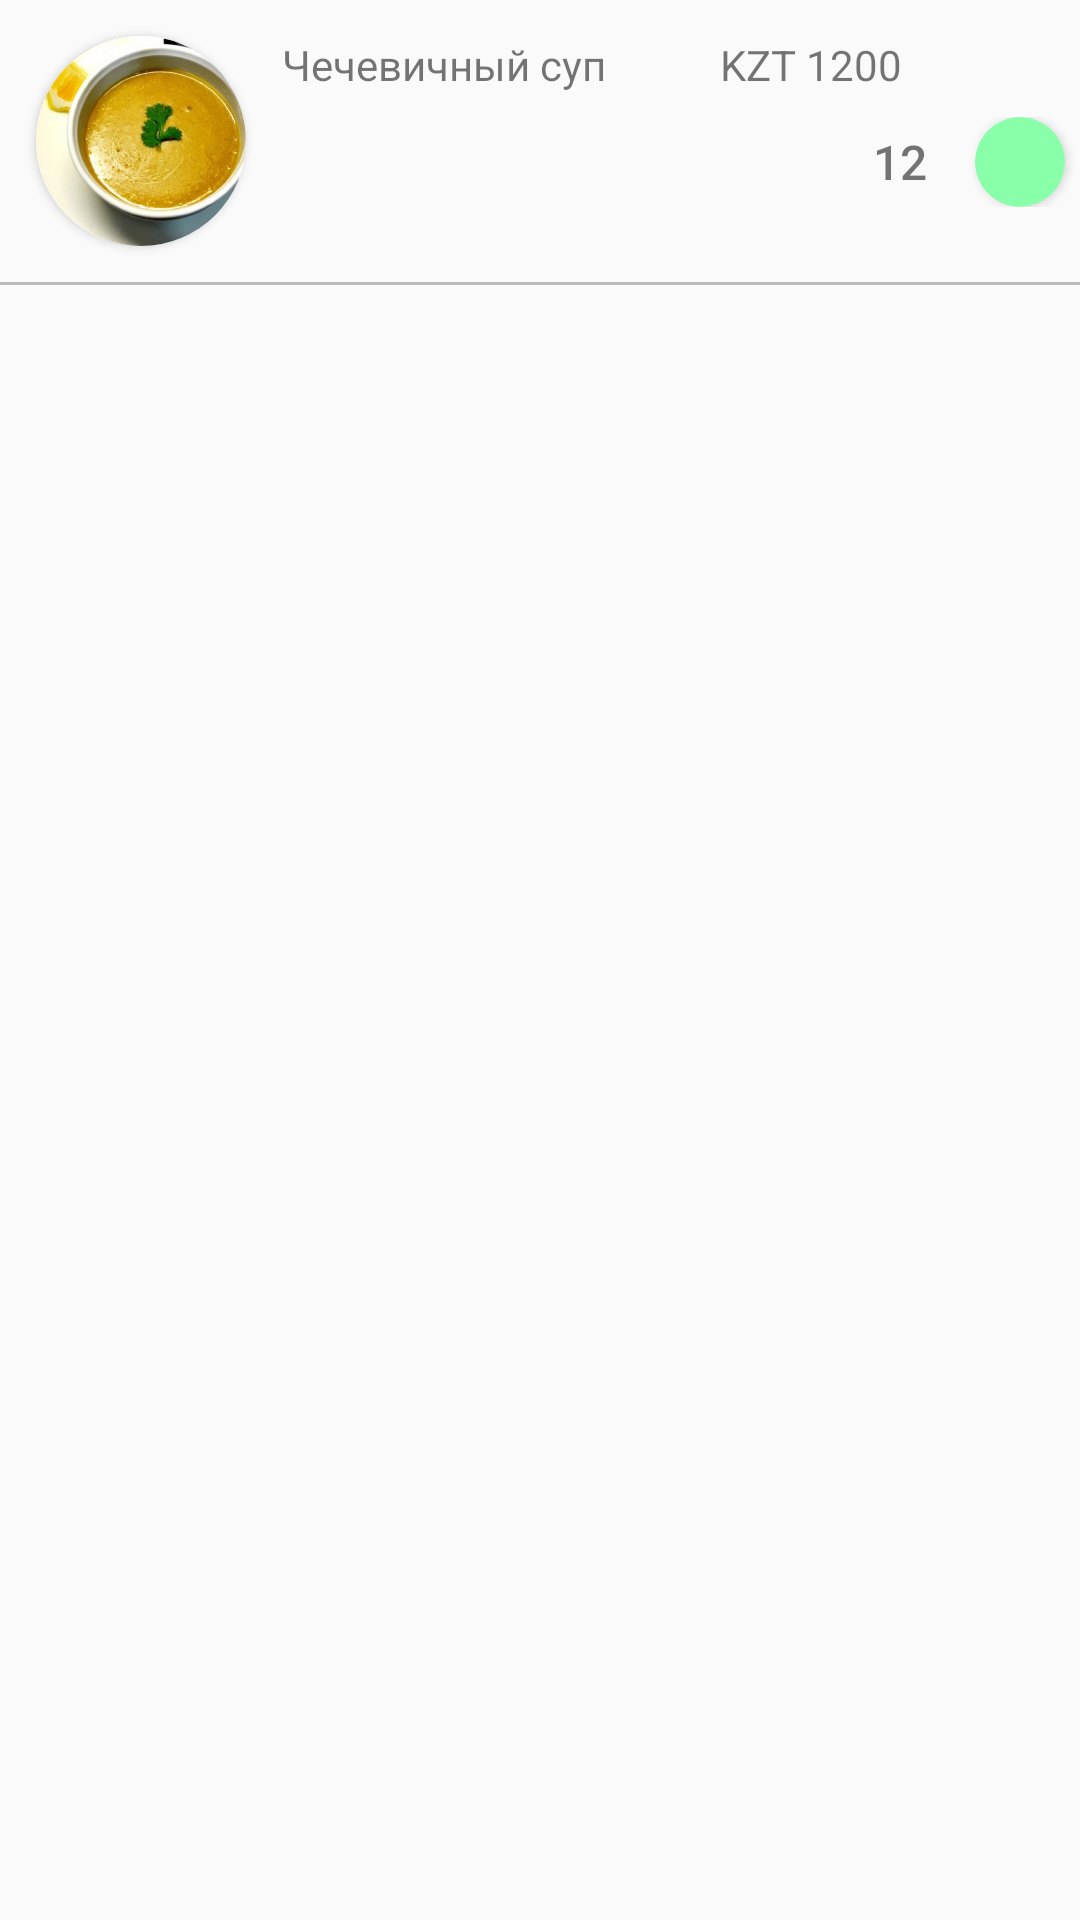

Named icons in this screenshot (1080px×1920px) and their centers, [x,y]:
pervoe chechevica: [141,142]
